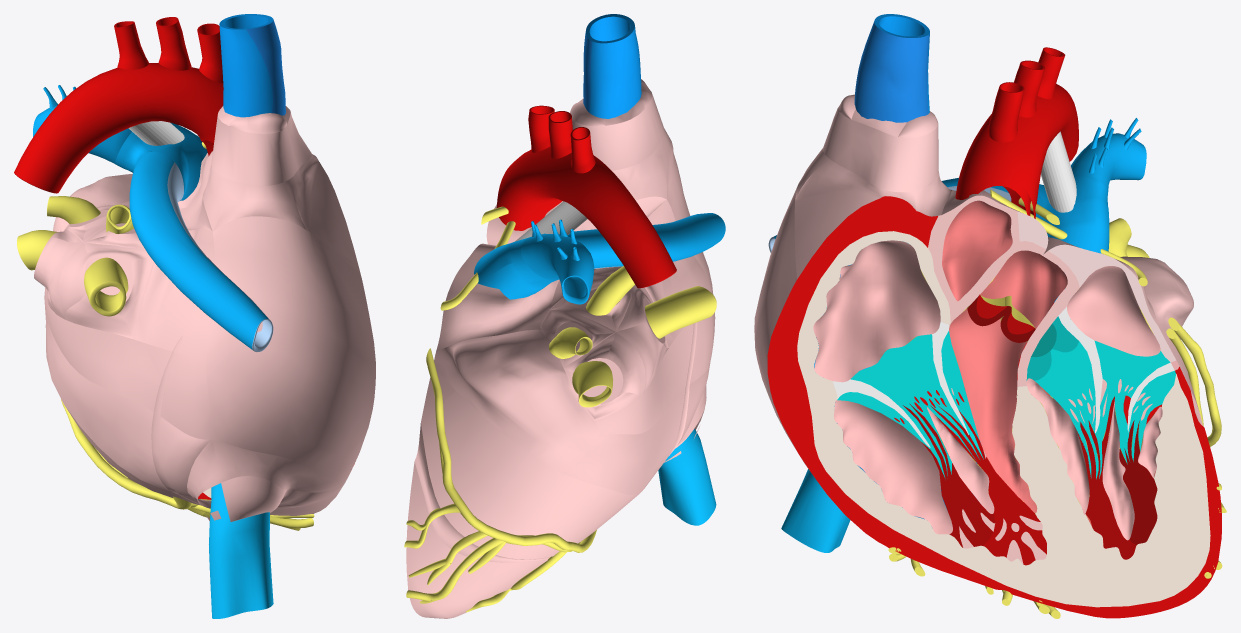
File: PDA_large.glb
The picture shows the model from 3 angles, left to right: view 1: azimuth 30°, elevation 25°; view 2: azimuth 150°, elevation 25°; view 3: azimuth 270°, elevation 25°; orthographic projection. The views are drawn at different scales.
Parts seen in each view (by area): view 1: NONE, Cylinder; view 2: NONE, Cylinder; view 3: NONE, Cylinder.
Part boxes in pixels (left/top/right/bottom): NONE: left=14, top=14, right=375, bottom=618; Cylinder: left=128, top=121, right=184, bottom=145; NONE: left=404, top=14, right=725, bottom=618; Cylinder: left=515, top=201, right=587, bottom=241; NONE: left=754, top=14, right=1226, bottom=618; Cylinder: left=1041, top=131, right=1076, bottom=212.
Bounding box in the file's own units: 1.91 × 5 × 3.77.
